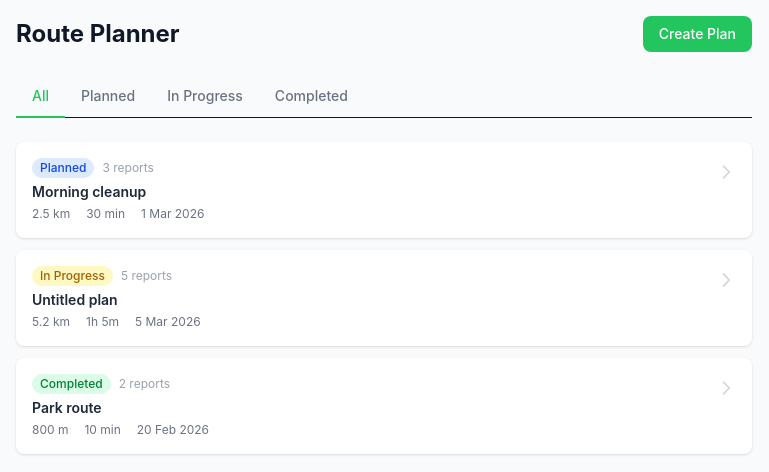
PlannerList › filters by status tab
Expected: the text "Morning cleanup" is shown, [32,183,146,200]
Click the button "In Progress" at x=205, y=97, box [151,76,259,118]
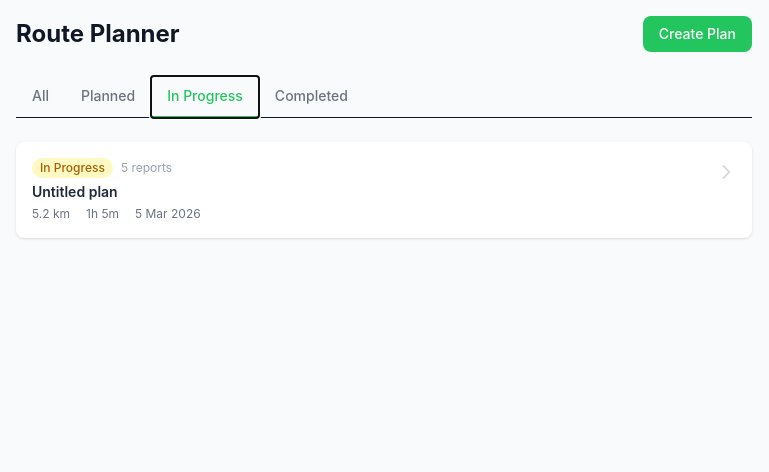
Expected: the text "Untitled plan" is shown, [32,183,118,200]
Result: the link "Morning cleanup" is gone
Result: the link "Park route" is gone
